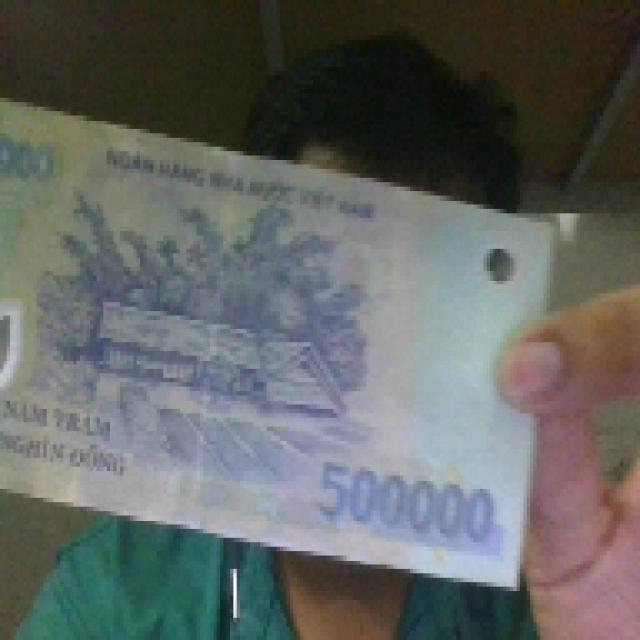500 000 VND: (0, 75, 560, 596)
